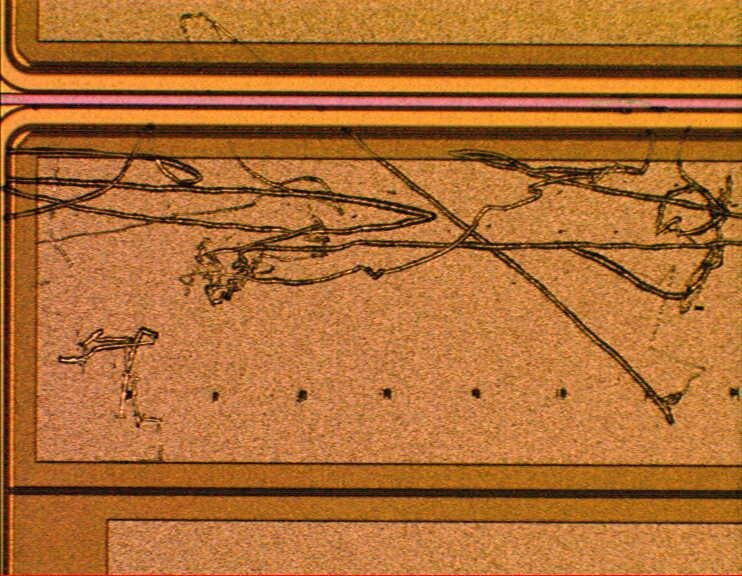SCRATCH: (1, 2, 742, 467)
